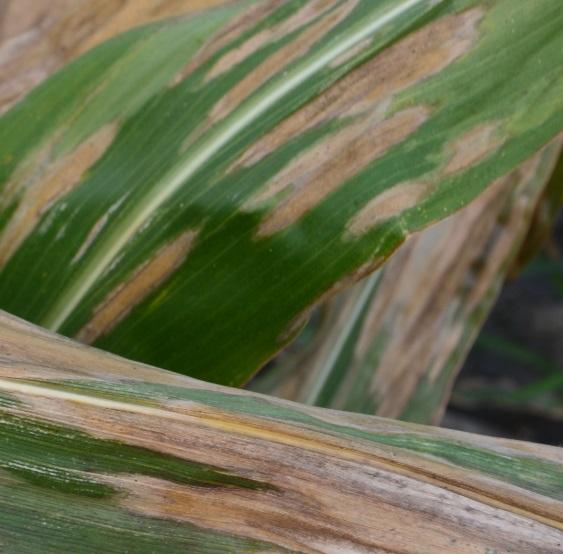Corn leaf blight: (1, 1, 561, 332), (1, 317, 563, 554)
